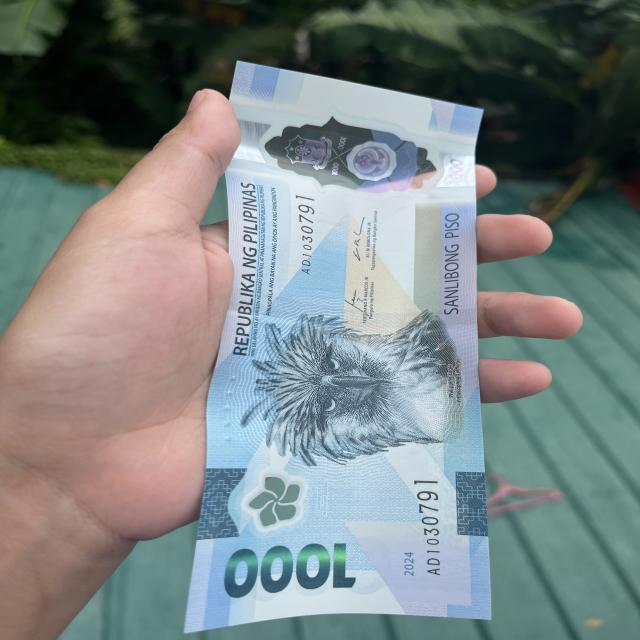clear_window: (220, 93, 479, 213)
eagle: (243, 309, 460, 462)
sampaguita: (236, 468, 340, 535)
security_thread: (228, 304, 478, 328)
serial_number: (401, 467, 446, 583), (291, 192, 316, 278)
